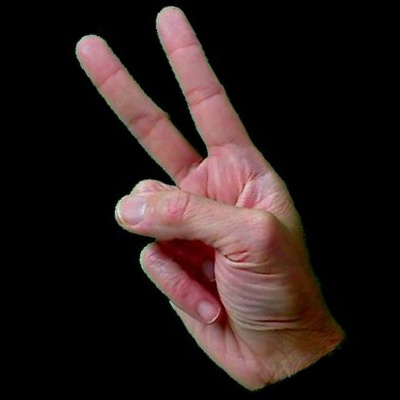v: (1, 3, 400, 400)
